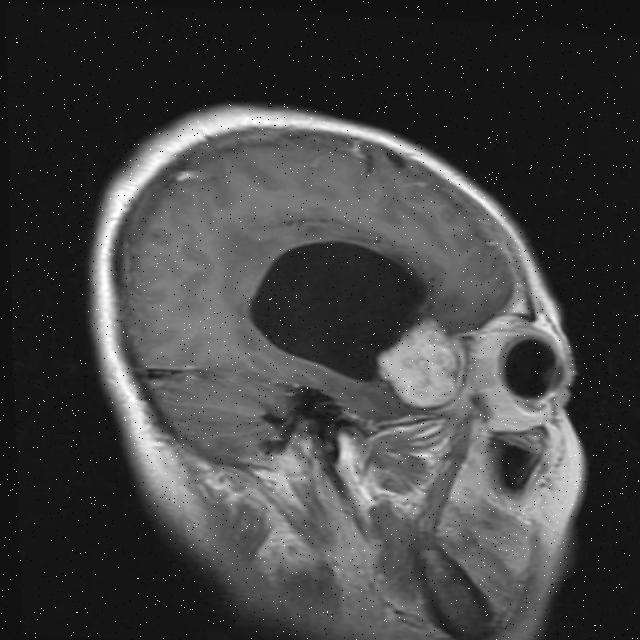Meningioma: (374, 314, 469, 410)
